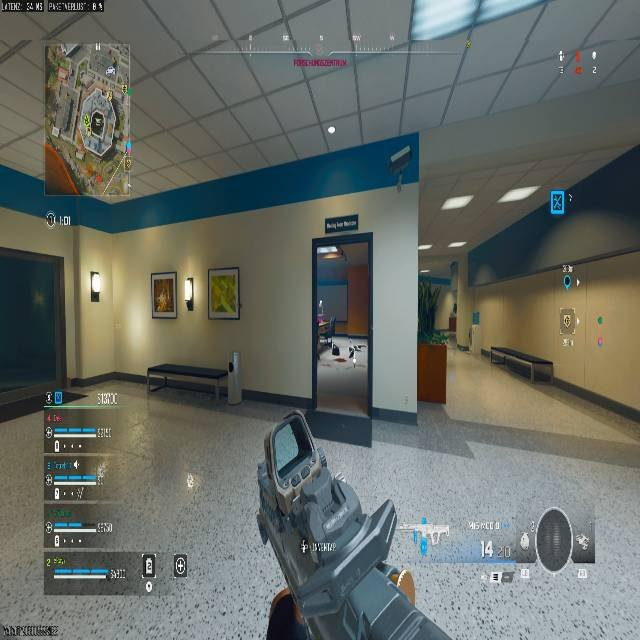player: (316, 303, 337, 357)
